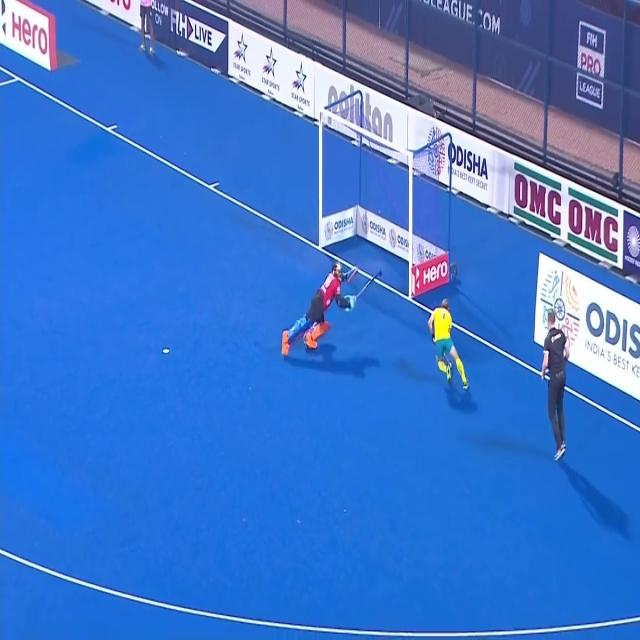ball: (447, 359, 454, 369)
